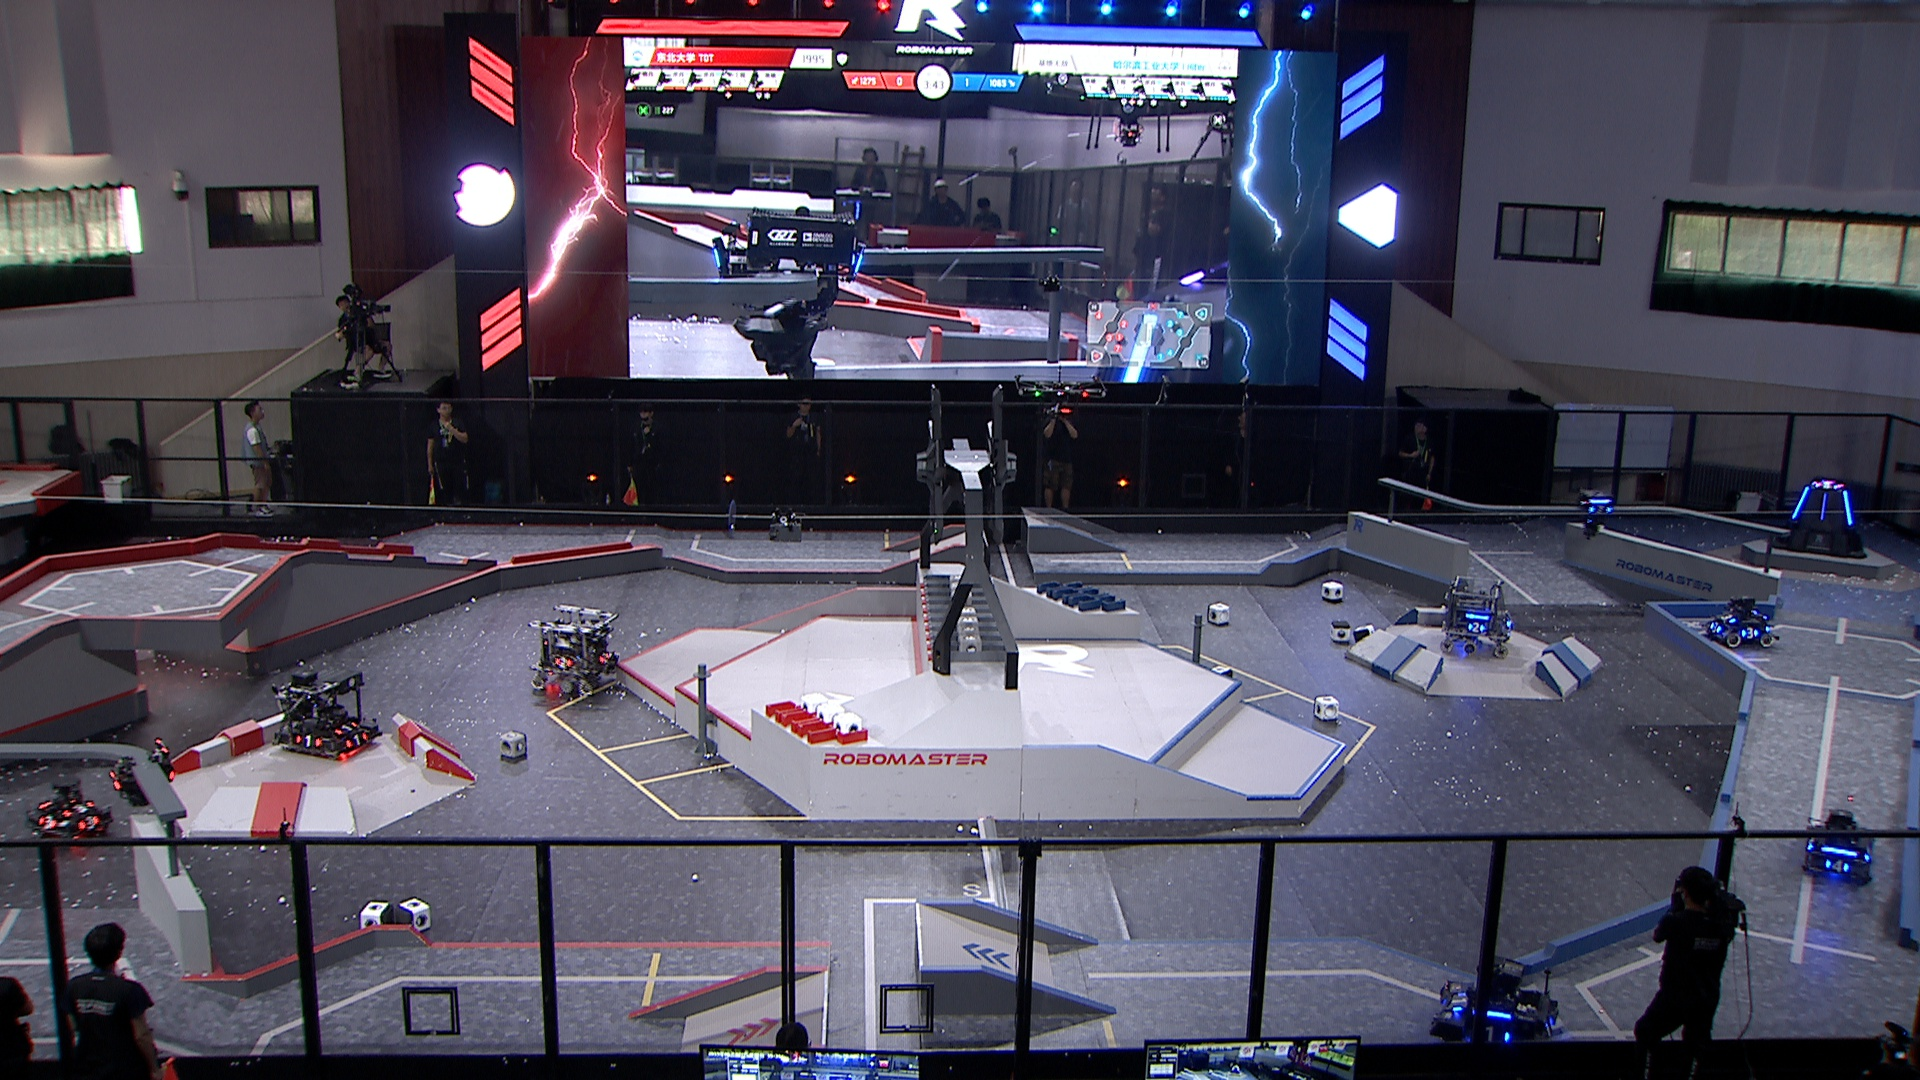armor: (1472, 1025, 1513, 1046), (1840, 491, 1858, 529), (1792, 484, 1812, 520), (291, 732, 323, 752), (1822, 855, 1850, 877), (105, 766, 125, 796), (332, 713, 359, 736), (32, 814, 61, 833), (62, 799, 92, 818), (344, 732, 371, 752), (1448, 988, 1468, 1014), (1859, 840, 1879, 864), (1542, 1011, 1557, 1040), (1462, 618, 1489, 636), (1588, 502, 1614, 518), (78, 815, 100, 833), (1738, 624, 1760, 642), (1818, 489, 1832, 520), (553, 654, 574, 673), (596, 647, 613, 669), (1718, 611, 1741, 626), (1706, 618, 1724, 636)
base: (1771, 477, 1869, 560)
car: (1429, 949, 1564, 1058), (272, 666, 386, 760), (526, 603, 622, 699), (1433, 570, 1515, 659), (25, 779, 116, 847), (1801, 807, 1880, 884), (1700, 591, 1778, 647)
ignore: (712, 206, 865, 382), (1813, 481, 1841, 491)
watcher: (105, 733, 178, 814), (1577, 487, 1617, 541)
